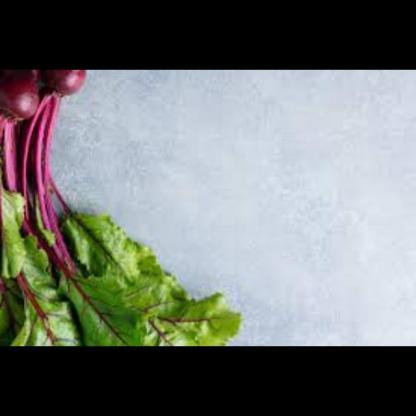beet: (1, 71, 61, 126), (43, 71, 101, 110)
